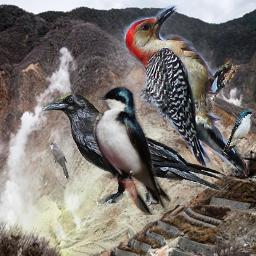Crow: (42, 93, 233, 210)
Cuckoo: (46, 142, 69, 179)
Swallow: (91, 85, 171, 215), (223, 110, 254, 152)
Woodpecker: (123, 5, 250, 177)
